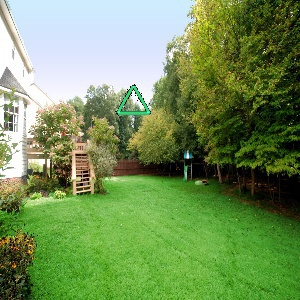triangle: (113, 83, 154, 117)
